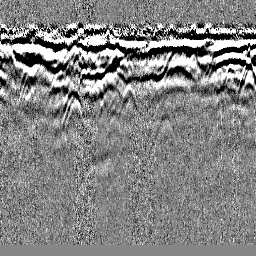cavity: (119, 84, 138, 112)
